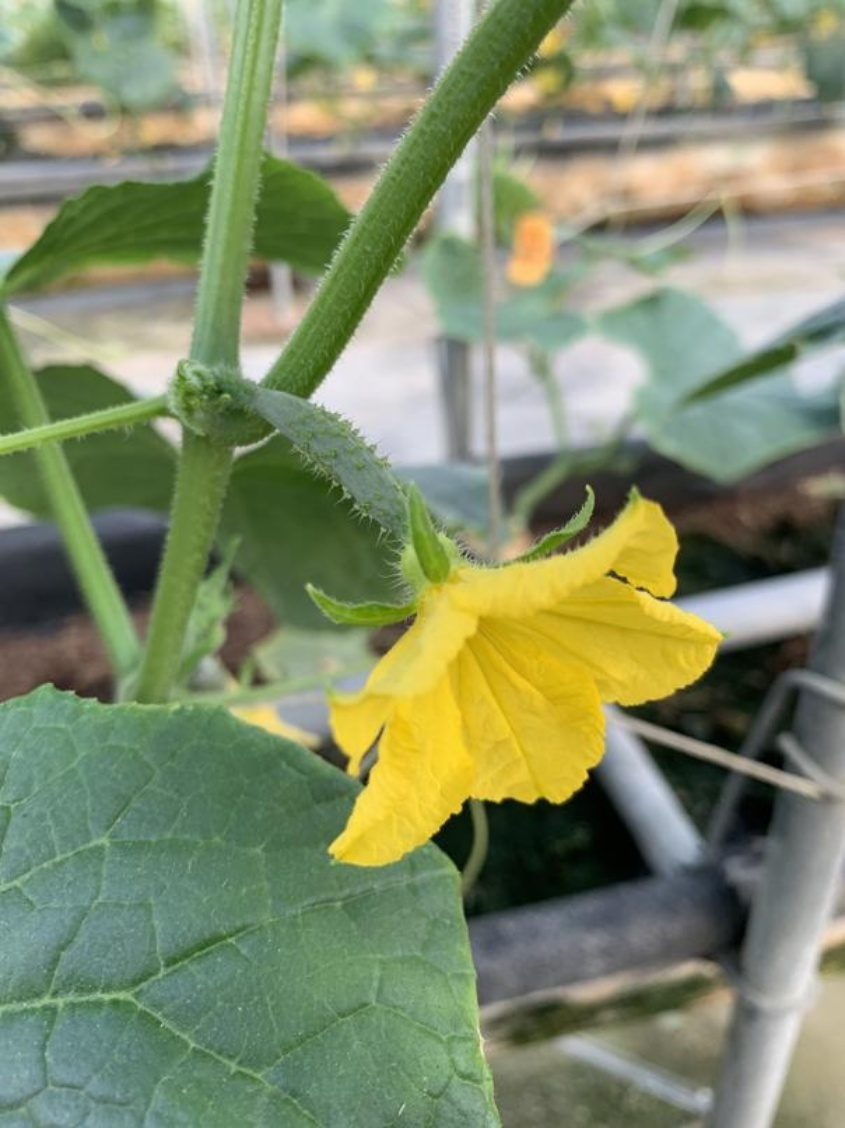flowering: (214, 358, 733, 851)
